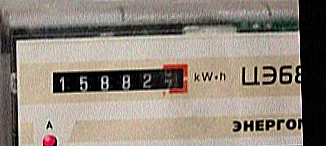1: (57, 77, 67, 93)
2: (141, 73, 152, 90)
5: (78, 76, 89, 92)
7: (164, 79, 173, 91)
8: (99, 76, 110, 93), (120, 75, 131, 92)
screen: (45, 61, 194, 104)
